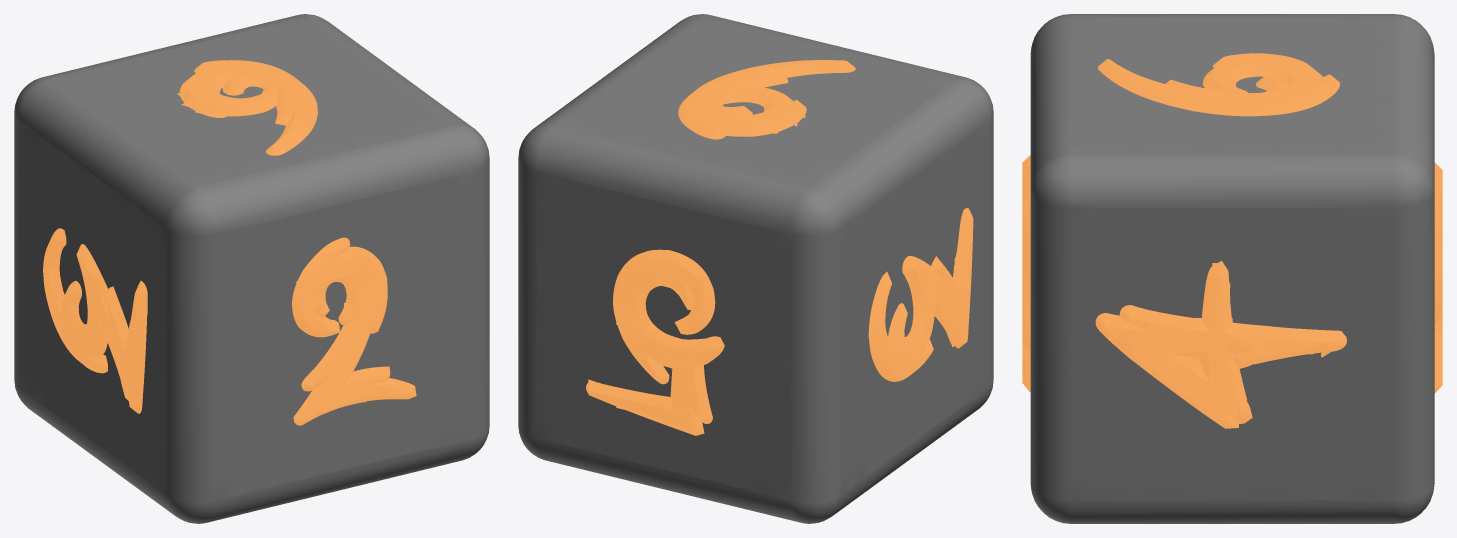
The picture shows the model from 3 angles, left to right: view 1: azimuth 30°, elevation 25°; view 2: azimuth 150°, elevation 25°; view 3: azimuth 270°, elevation 25°; orthographic projection. The views are drawn at different scales.
Visible parts, largest first — view 1: d6_0, d6_1; view 2: d6_0, d6_1; view 3: d6_0, d6_1.
Boxes of the visible parts, bbox=[...] form: d6_0: bbox=[14, 14, 489, 523]; d6_1: bbox=[43, 60, 416, 425]; d6_0: bbox=[518, 14, 993, 523]; d6_1: bbox=[586, 60, 973, 435]; d6_0: bbox=[1030, 14, 1434, 523]; d6_1: bbox=[1022, 53, 1442, 428].
Size of the model in its own units: 2.1 by 2.09 by 2.08.
